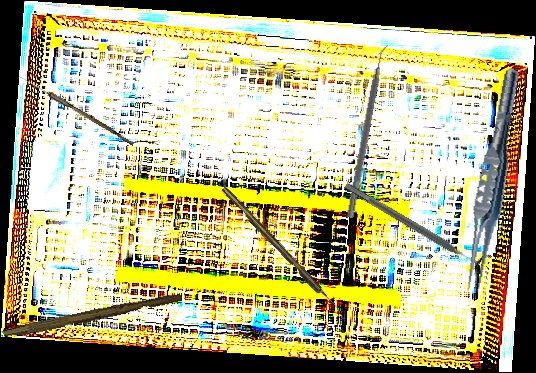Fixation Ring: (339, 174, 493, 277)
Hook Surgical: (220, 185, 340, 312)
Scalpel Handle: (2, 288, 183, 344)
Spatula Surgical: (346, 43, 392, 220)
Surgical Spoon: (17, 74, 136, 146)
Tissue Forceps: (459, 65, 525, 298)
